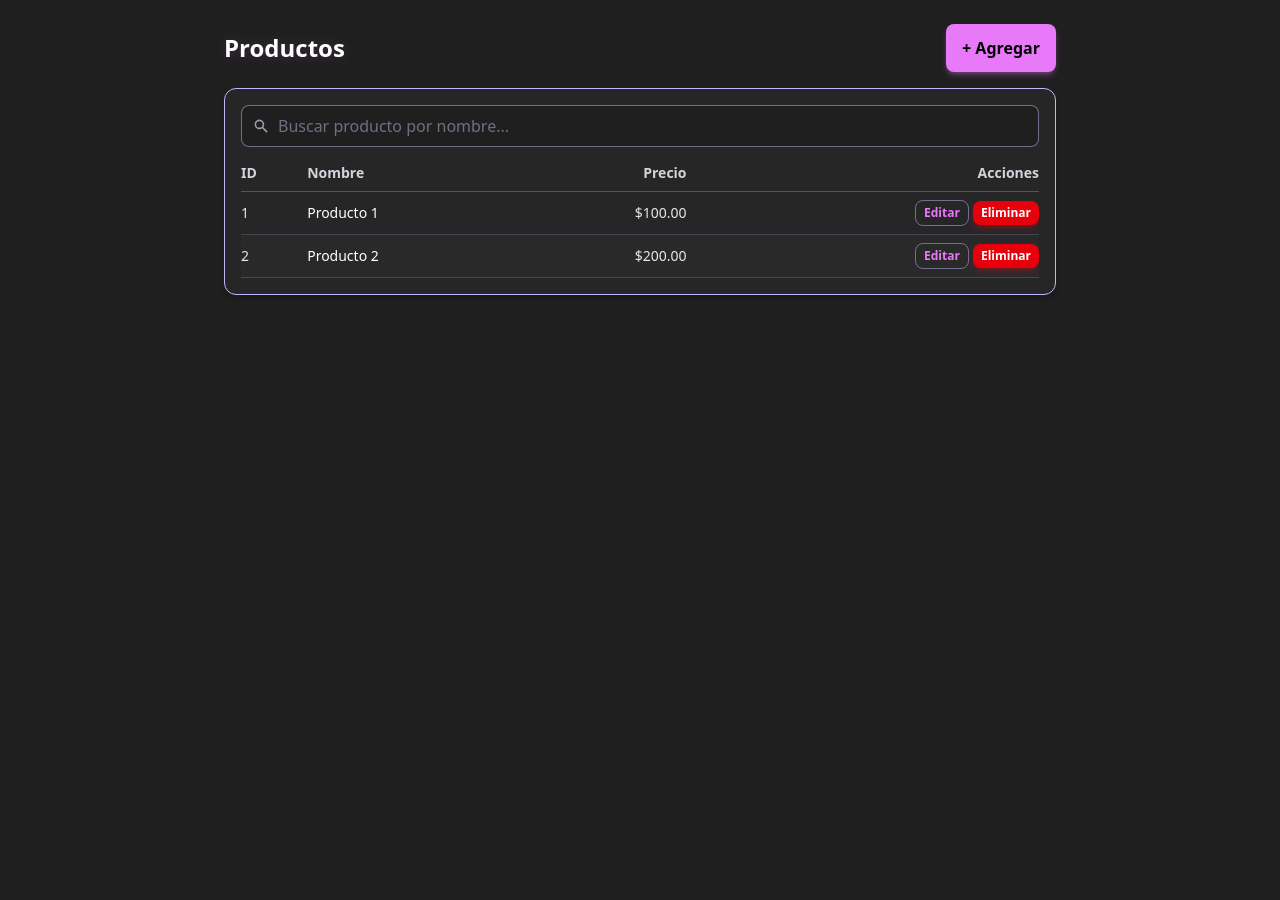
Test: Productos › opens modal to edit product
The width and height of the screenshot is (1280, 900).
Click the button "Editar" in the row of "Producto 1".
click(942, 213)  # box x1=915 y1=200 x2=969 y2=226
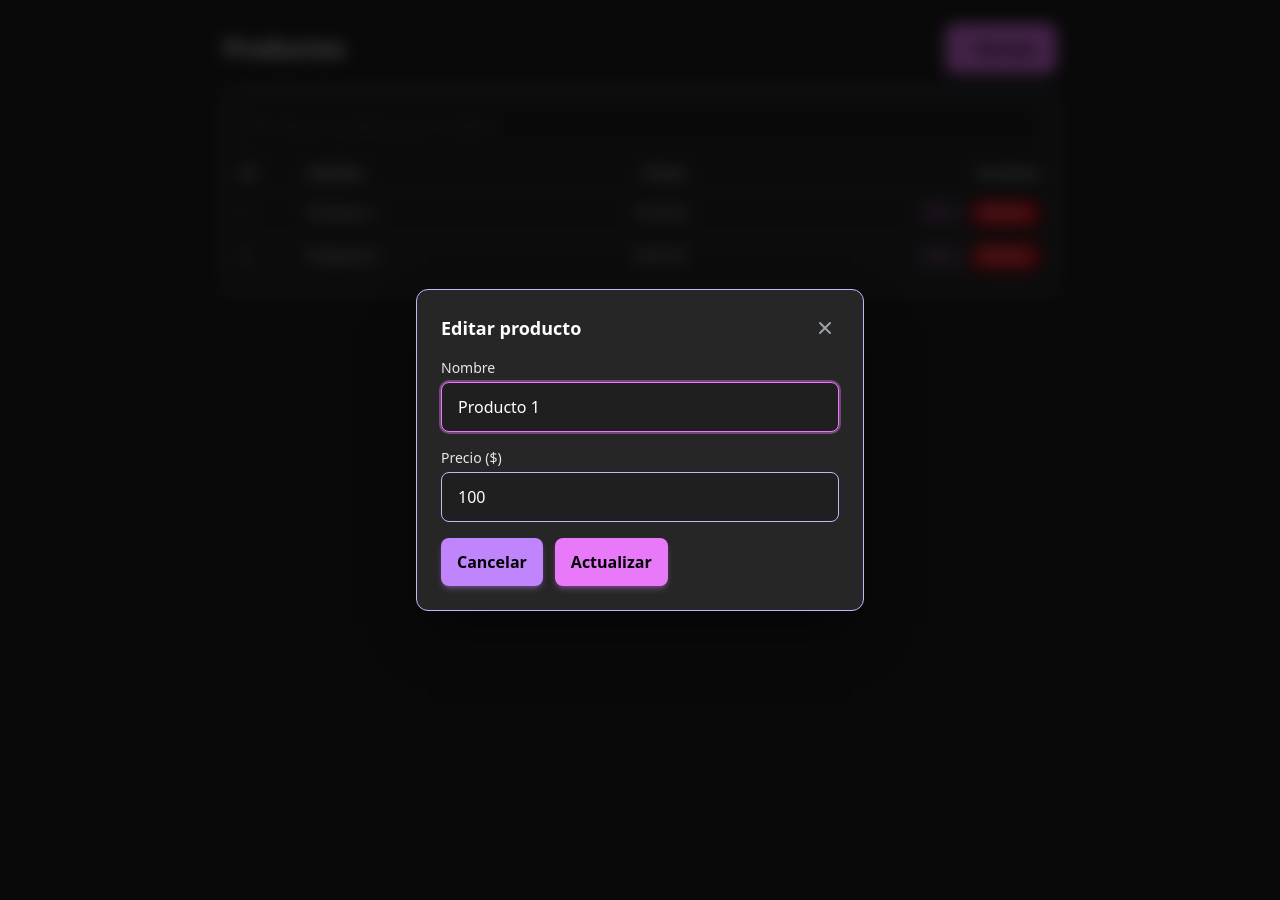
Check: the heading "Editar producto" is shown, box x1=441 y1=314 x2=581 y2=342
